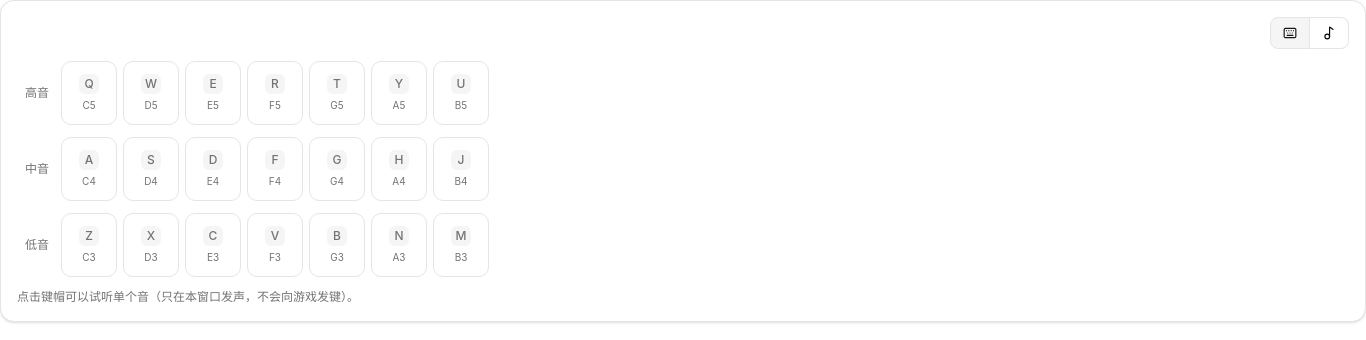
Test: VirtualKeyboard › 右上角切换到落音视图：显示落音舞台，键帽行隐藏，再点切回键帽
Expected: the text "高音" is shown, [25, 85, 49, 100]
Click the radio button named "落音预览". click: (1330, 33)
box: [1310, 17, 1349, 49]
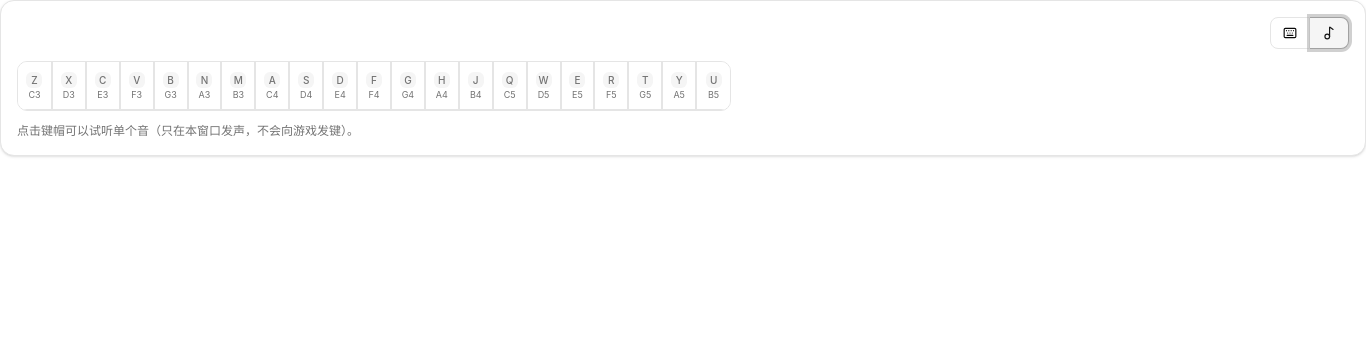
Now the element with test id "falling-stage" is shown, box [17, 61, 731, 111]
Now the button named "键帽 M B3" is shown, box [221, 62, 255, 110]
Now the text "高音" is gone
Click the radio button named "键帽视图". click: (1290, 33)
box: [1270, 17, 1310, 49]
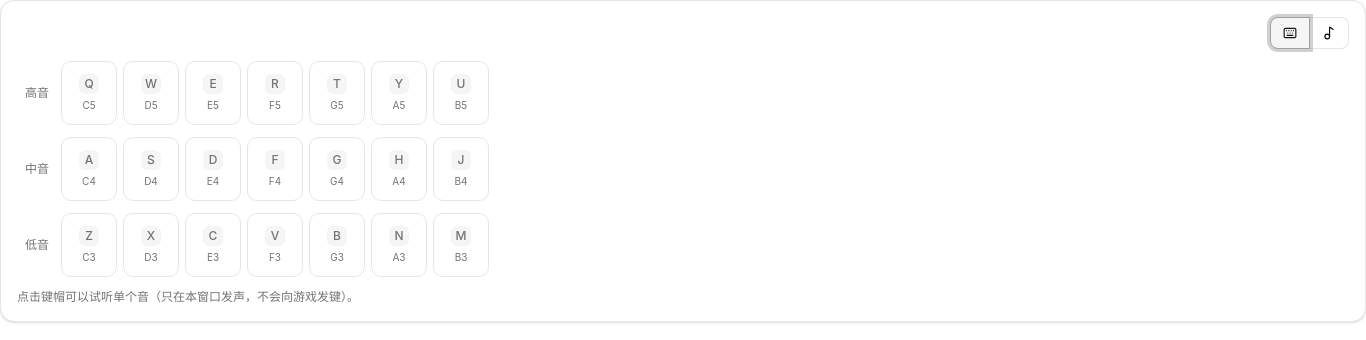
Now the element with test id "falling-stage" is gone
Now the text "高音" is shown, box [25, 85, 49, 100]
